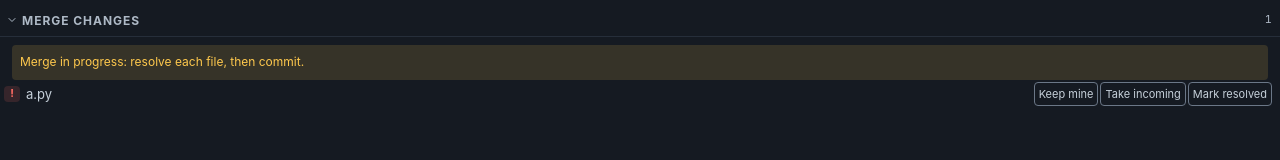
Test: MergeGroup: the group › keeps the banner while the rows are collapsed away
Click the button "Merge Changes".
click(81, 20)  # box [4,10,1257,30]
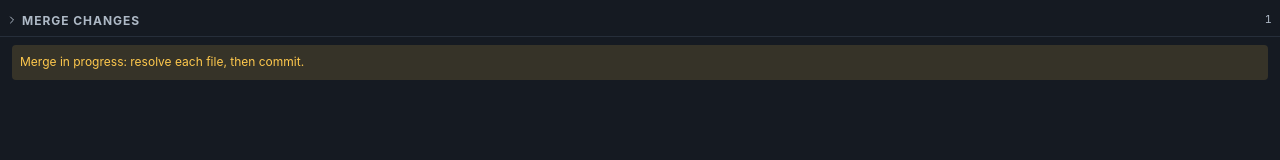
Expected: the text "Merge in progress: resolve each file, then commit." is shown, [12,45,1268,80]
Expected: no list items are shown
